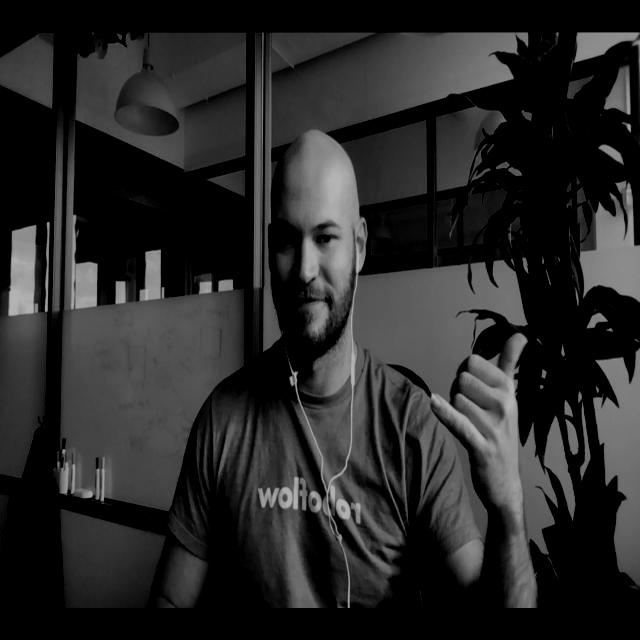real: (266, 143, 364, 359)
